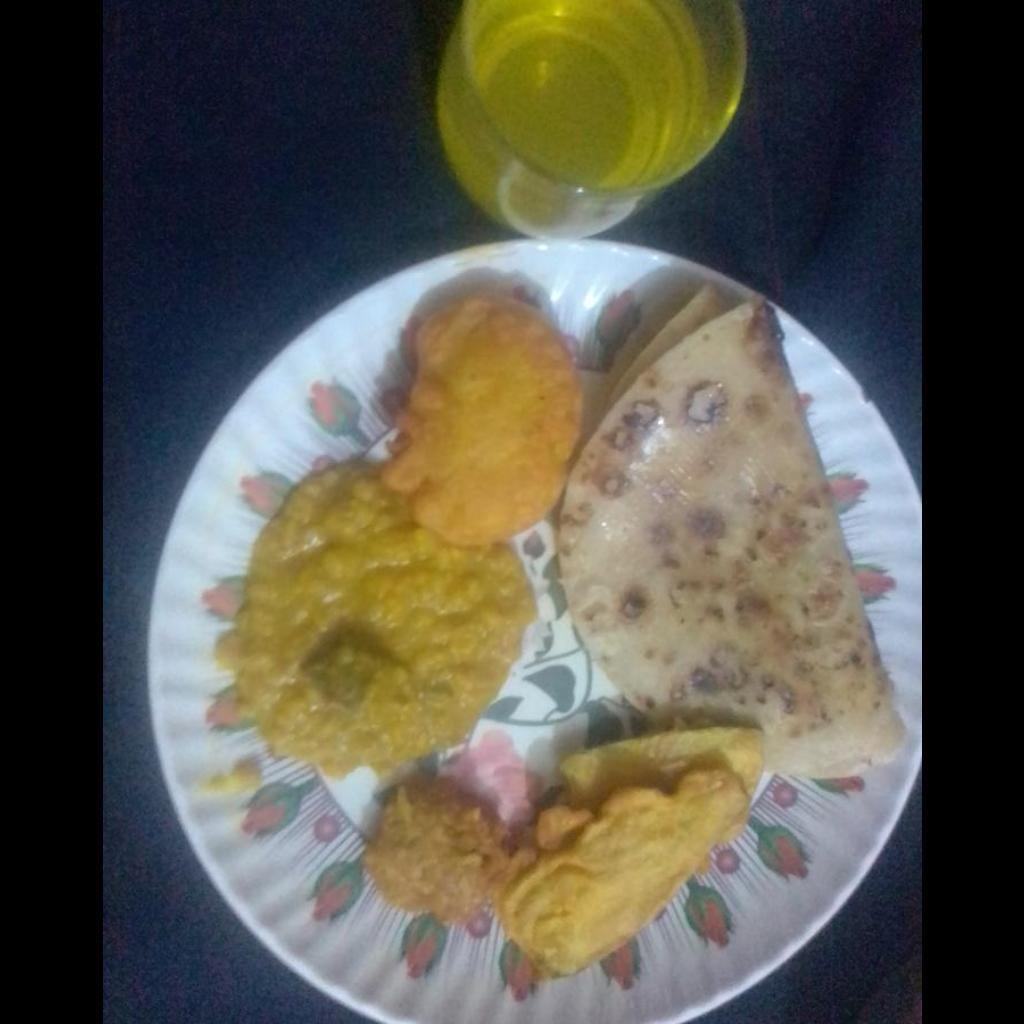beguni: (491, 727, 762, 977)
chop-alu: (380, 290, 575, 548)
daal: (224, 460, 524, 776)
juice: (469, 1, 690, 178)
piyaju: (363, 774, 513, 924)
ruti: (550, 286, 902, 779)
